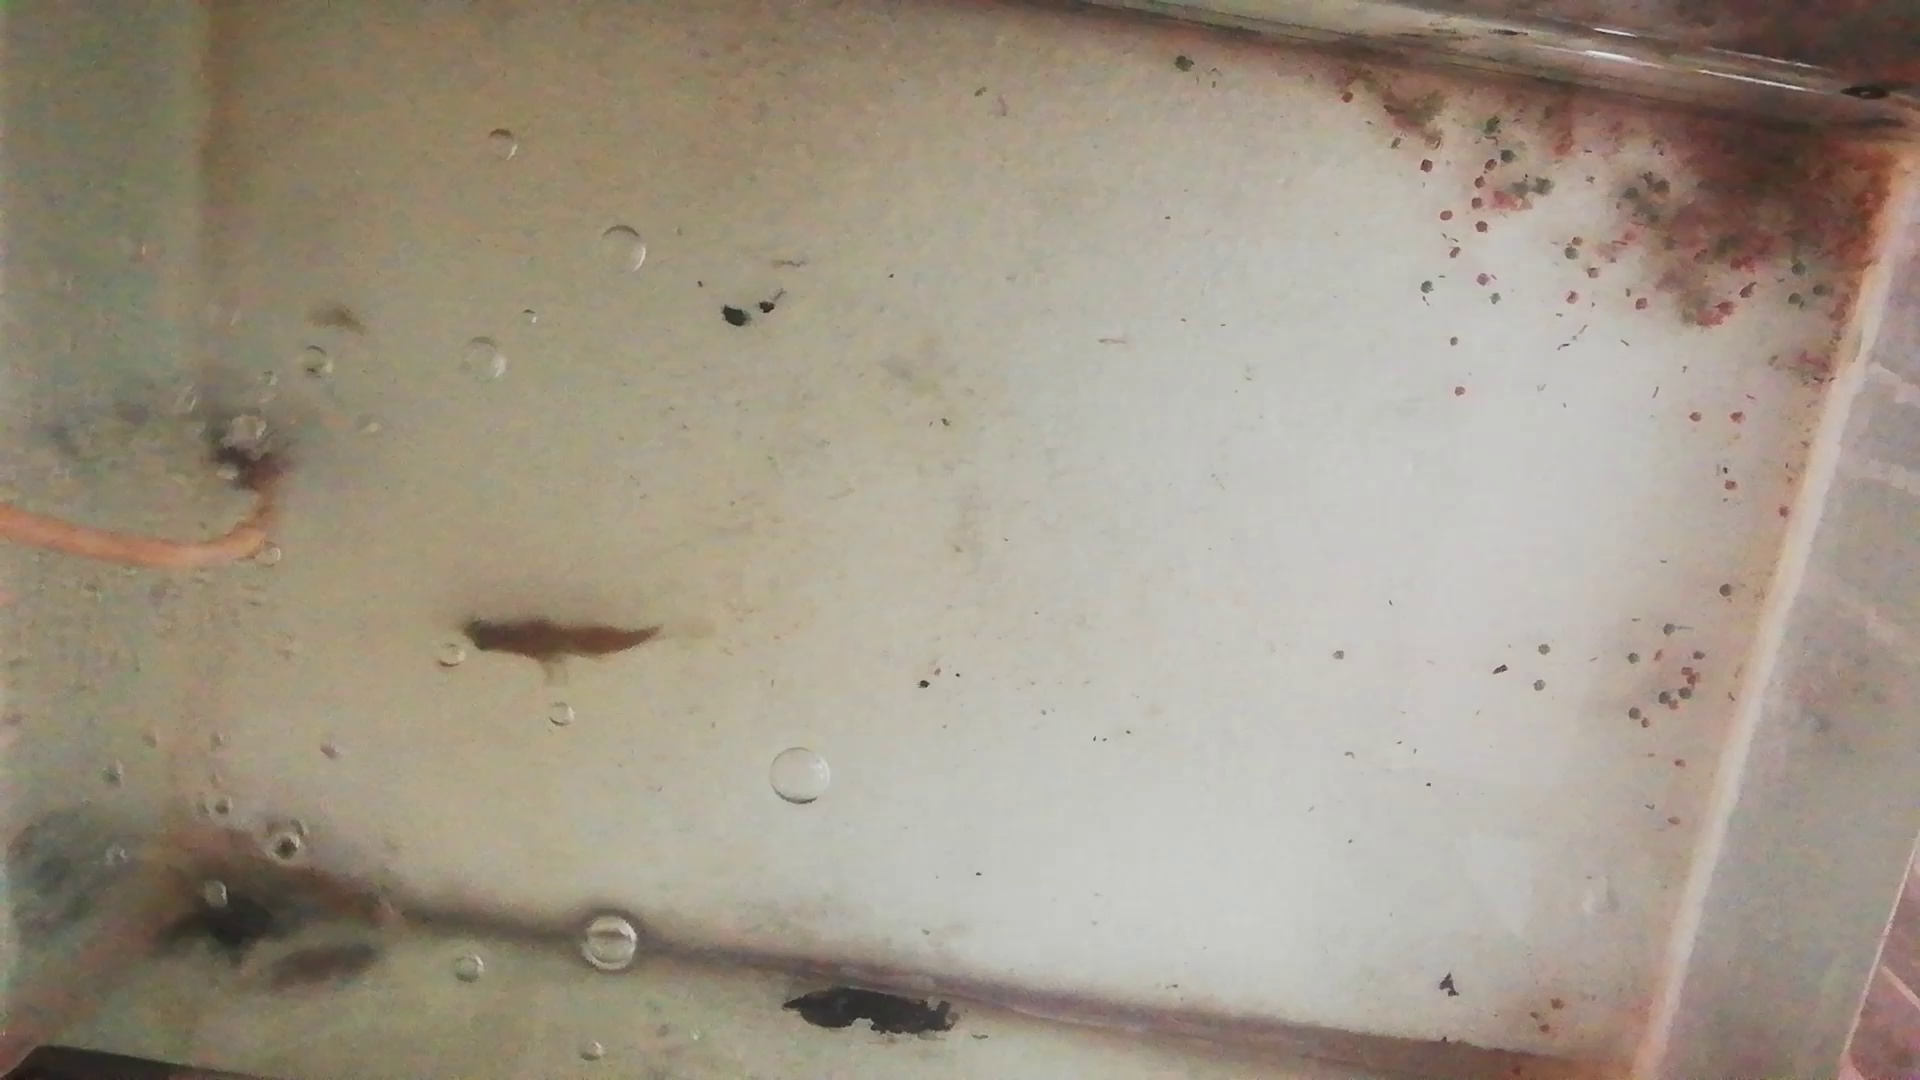fish: (178, 840, 410, 934), (458, 613, 658, 665)
